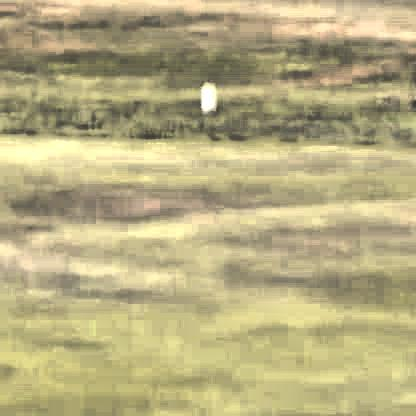golfball: (199, 79, 215, 107)
